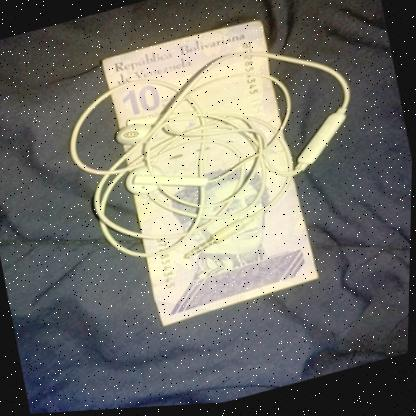ten-front-vef: (96, 12, 328, 335)
